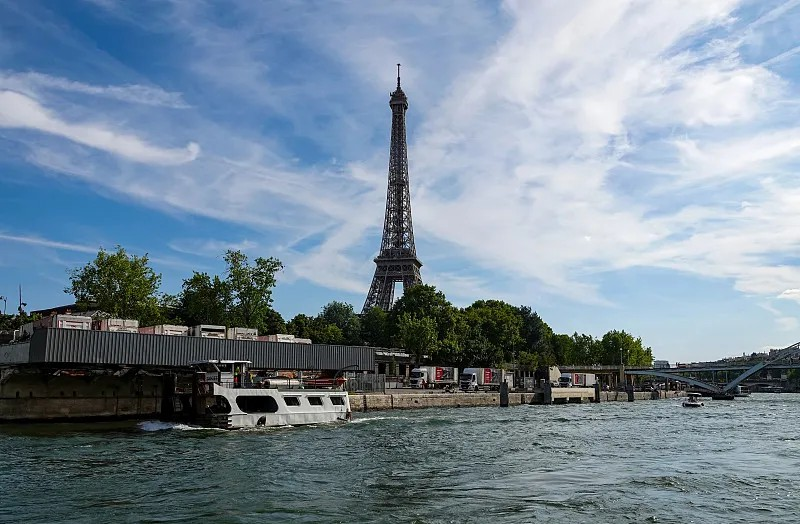Eiffel: (358, 62, 428, 318)
